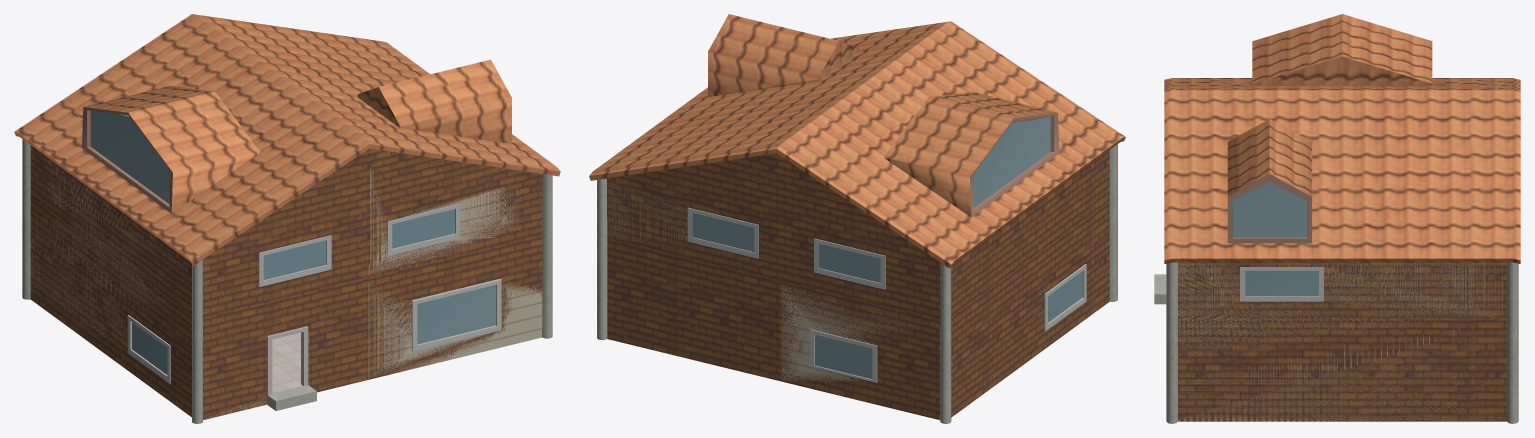
Rendered from House_005_Custom.fbx.
3 views of the same model, side by side, from view 1: azimuth 30°, elevation 25°; view 2: azimuth 150°, elevation 25°; view 3: azimuth 270°, elevation 25° (orthographic). The views are drawn at different scales.
Parts seen in each view (by area): view 1: House_005_OutSideWalls_1, House_005_Roof_1, House_005_OutSideWalls_4, House_005_WindowsGlass, House_005_Pillars_1, House_005_F1Floor_1; view 2: House_005_OutSideWalls_1, House_005_Roof_1, House_005_WindowsGlass, House_005_OutSideWalls_4, House_005_Pillars_1; view 3: House_005_Roof_1, House_005_OutSideWalls_1, House_005_OutSideWalls_4, House_005_WindowsGlass, House_005_Pillars_1.
Boxes of the visible parts, x1,y1,x2,y2 form: House_005_OutSideWalls_1: (30,145,542,419); House_005_Roof_1: (14,14,560,265); House_005_OutSideWalls_4: (30,150,542,419); House_005_WindowsGlass: (90,110,495,374); House_005_Pillars_1: (22,139,552,423); House_005_F1Floor_1: (272,332,302,393); House_005_OutSideWalls_1: (607,150,1109,419); House_005_Roof_1: (589,14,1125,268); House_005_WindowsGlass: (692,116,1082,379); House_005_OutSideWalls_4: (607,178,921,381); House_005_Pillars_1: (597,144,1117,423); House_005_Roof_1: (1164,14,1520,263); House_005_OutSideWalls_1: (1154,262,1506,421); House_005_OutSideWalls_4: (1154,262,1506,421); House_005_WindowsGlass: (1232,182,1318,295); House_005_Pillars_1: (1166,262,1518,423).
Bounding box in the file's own units: 0.7332 × 0.4612 × 0.6278.
